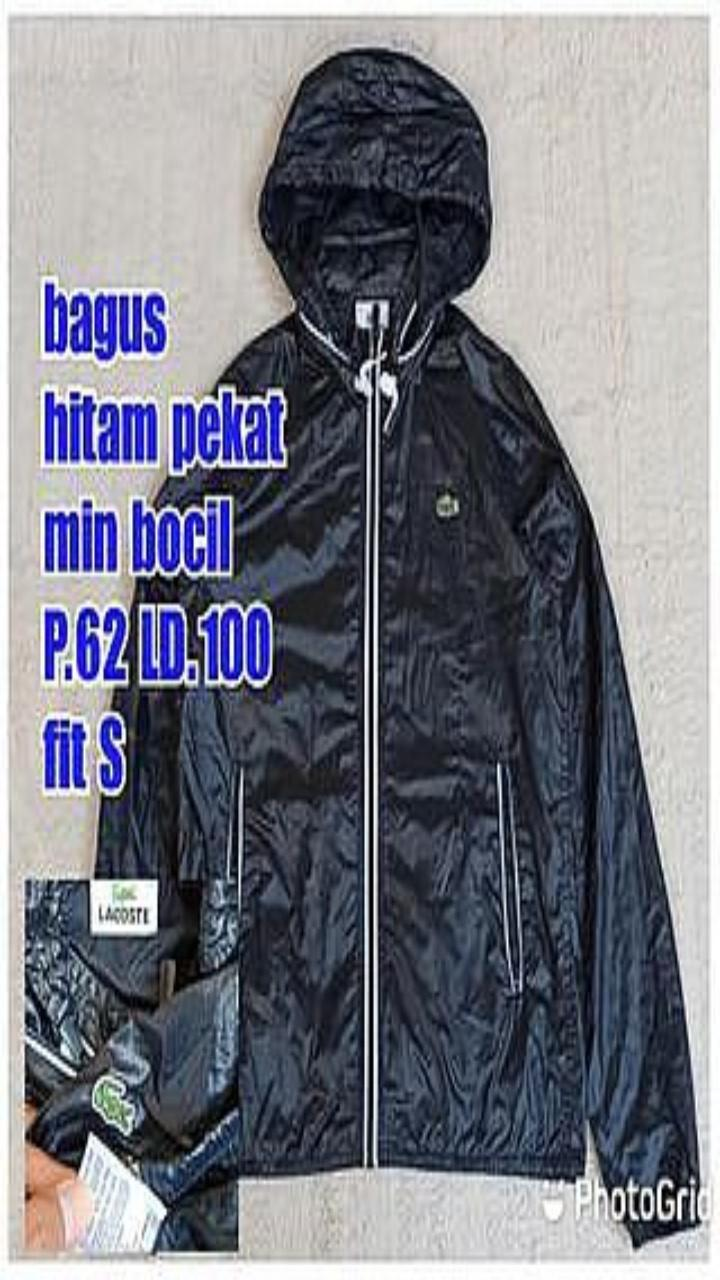Sports_Jacket: (97, 50, 698, 1188)
